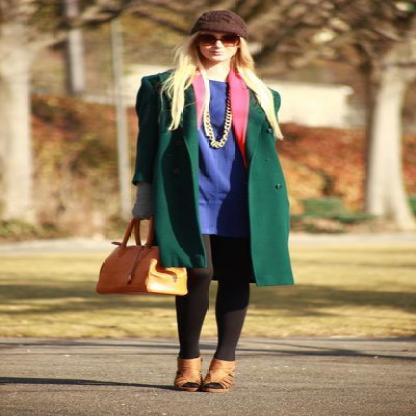bag: (97, 218, 187, 295)
dress: (185, 71, 251, 236)
hat: (194, 12, 250, 41)
jacket: (132, 72, 292, 286)
shoe: (176, 356, 235, 392)
sunglass: (192, 29, 240, 57)
